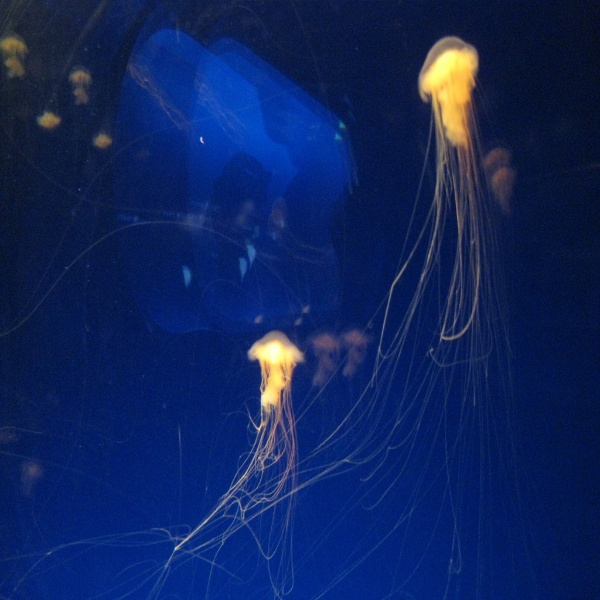Jellyfish: (370, 30, 504, 598), (174, 327, 305, 548)
